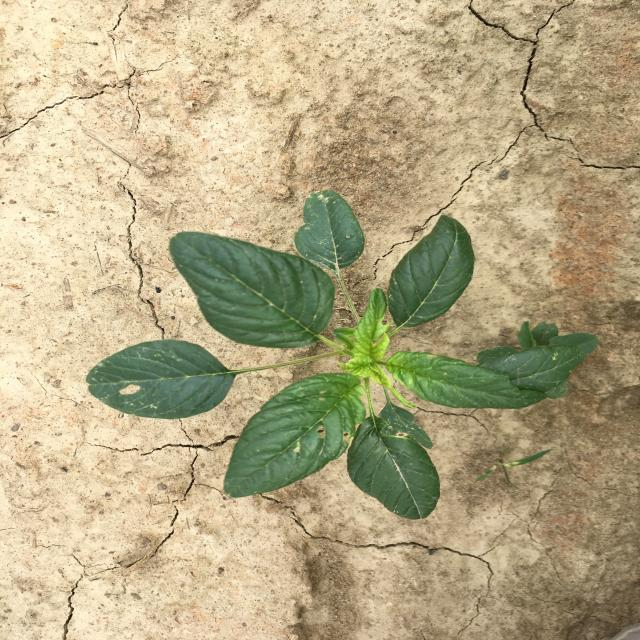PalmerAmaranth: (86, 189, 598, 520)
